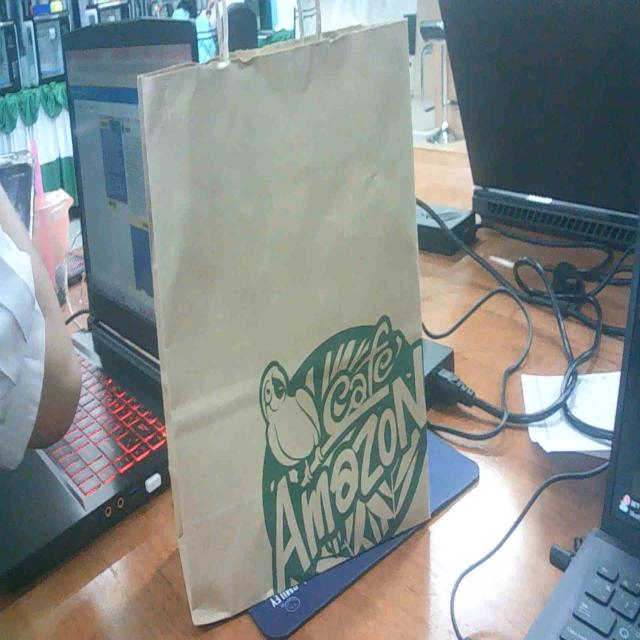bag: (137, 30, 445, 605)
